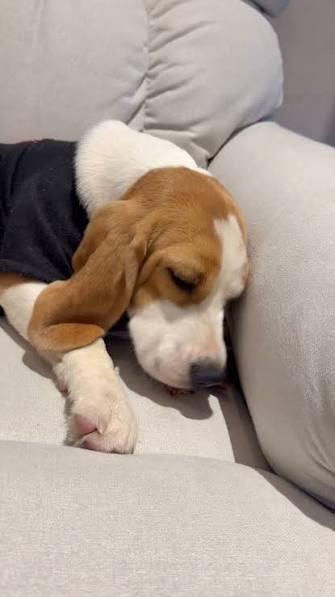adult_dog: (0, 119, 252, 457)
